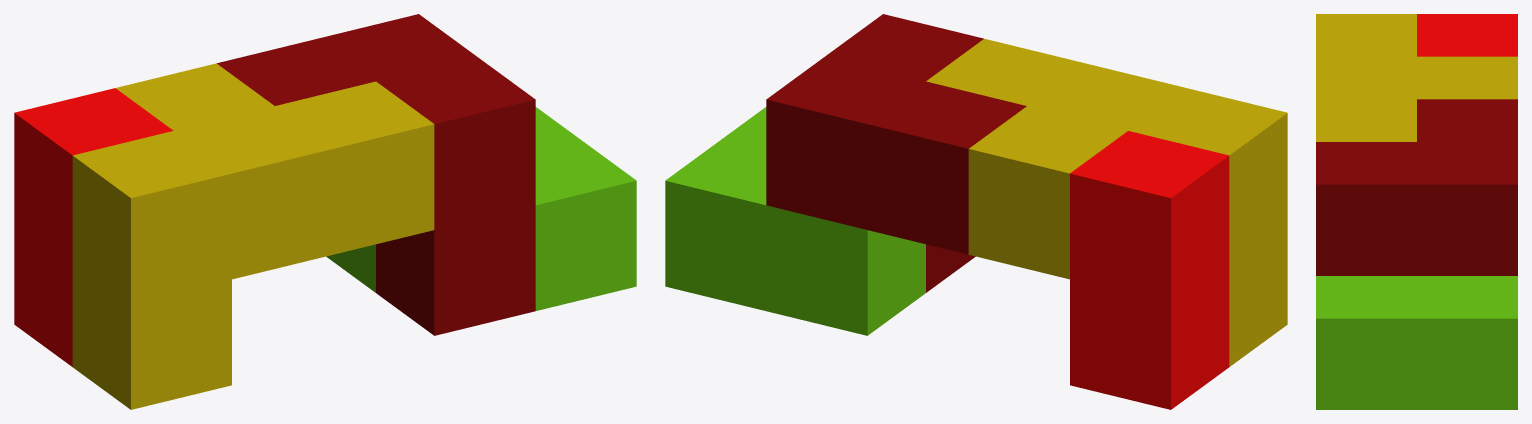
3 renders of one model, left to right at view 1: azimuth 30°, elevation 25°; view 2: azimuth 150°, elevation 25°; view 3: azimuth 270°, elevation 25°, orthographic. The views are drawn at different scales.
Visible parts, largest first — view 1: mergedBlocks(Clone); view 2: mergedBlocks(Clone); view 3: mergedBlocks(Clone).
Boxes of the visible parts, left/top/right/bottom form: mergedBlocks(Clone): left=14, top=14, right=636, bottom=409; mergedBlocks(Clone): left=665, top=14, right=1287, bottom=409; mergedBlocks(Clone): left=1316, top=14, right=1517, bottom=409.
Size of the model in its own units: 5 by 2 by 2.
4 materials, 4 textured.
